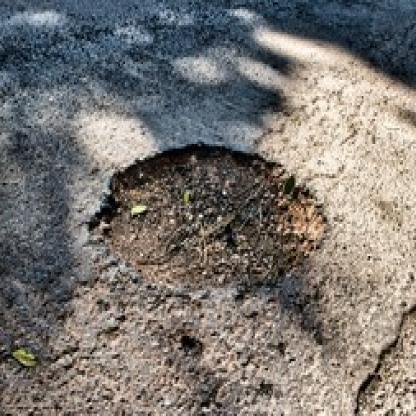pothole: (89, 140, 334, 297)
